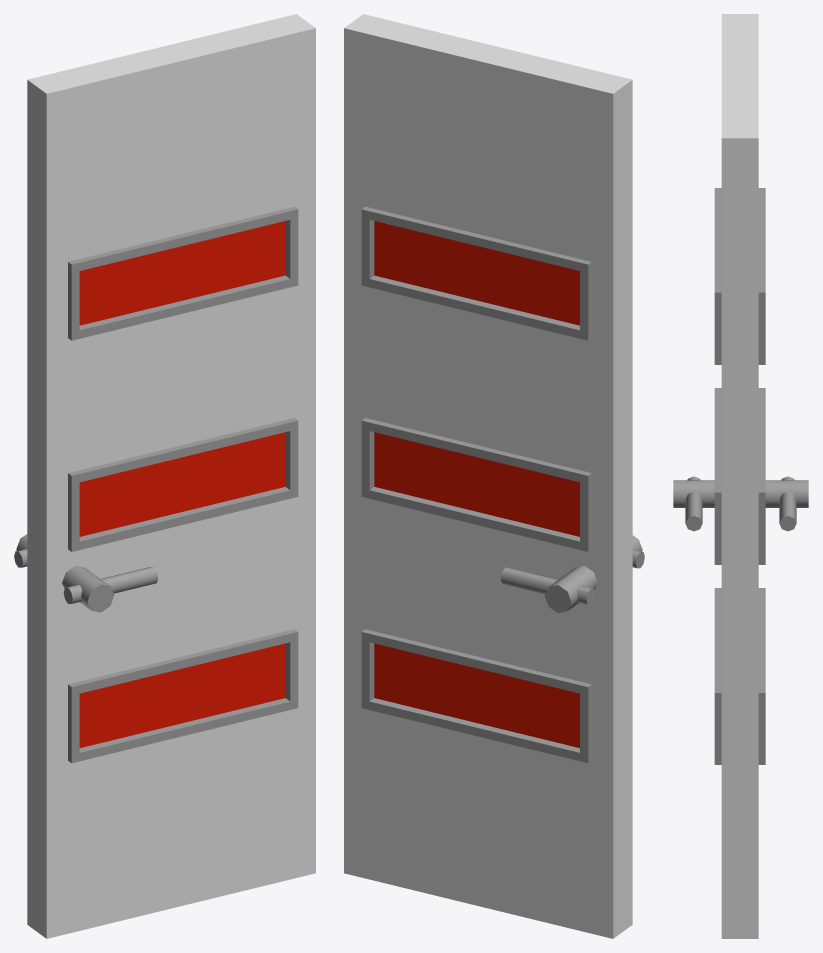
Rendered from HFrontDoor.fbx.
The picture shows the model from 3 angles, left to right: view 1: azimuth 30°, elevation 25°; view 2: azimuth 150°, elevation 25°; view 3: azimuth 270°, elevation 25°; orthographic projection. The views are drawn at different scales.
Visible parts, largest first — view 1: Cube.012; view 2: Cube.012; view 3: Cube.012.
Boxes of the visible parts, x1,y1,x2,y2 form: Cube.012: (14, 14, 315, 938); Cube.012: (344, 14, 644, 938); Cube.012: (673, 14, 808, 938).
Size of the model in its own units: 100 by 300 by 45.85.
